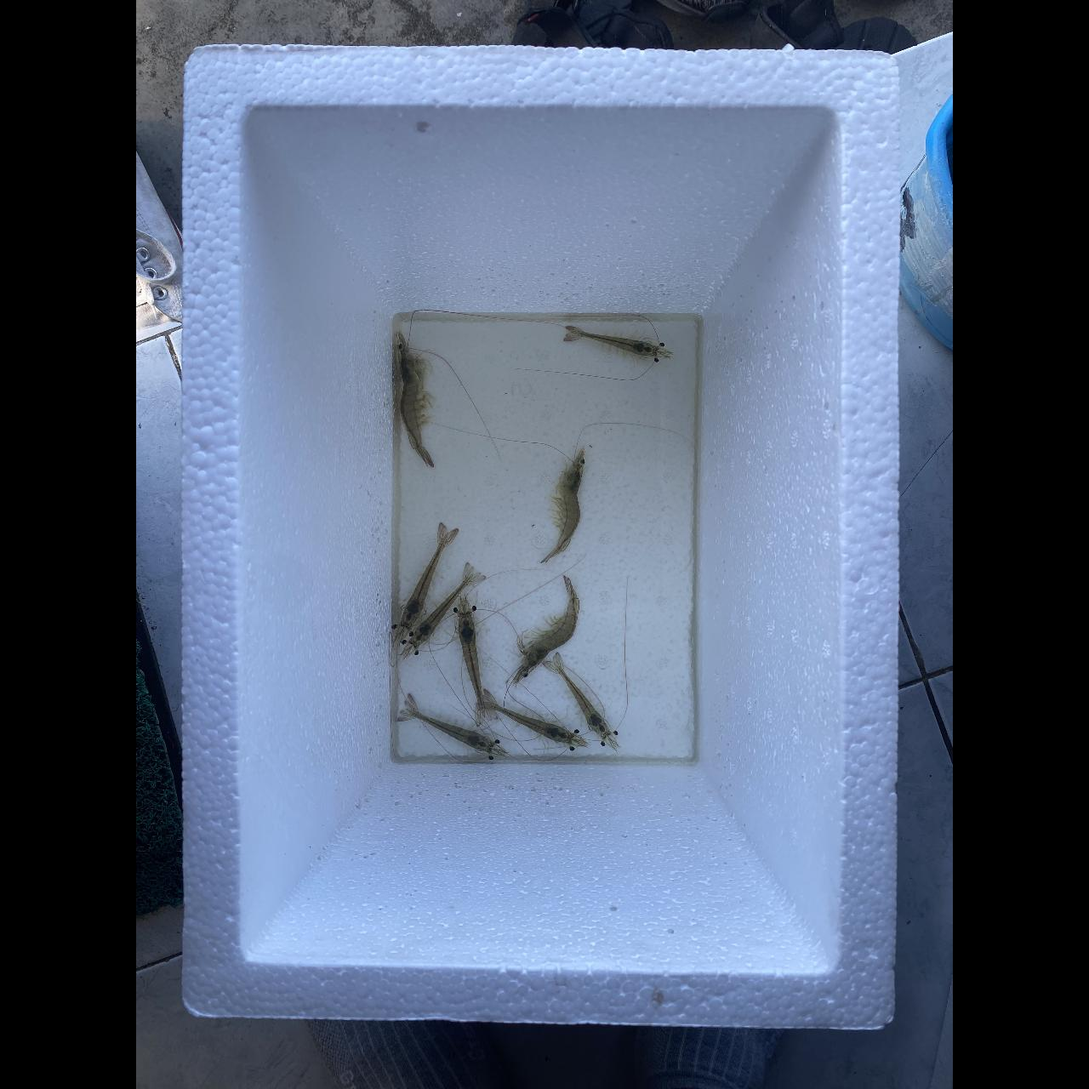side_shrimp: (521, 582, 580, 669), (545, 464, 585, 560), (399, 347, 427, 466)
top_shrimp: (411, 573, 473, 646), (402, 533, 447, 627), (555, 662, 610, 738), (484, 701, 570, 743), (405, 709, 490, 750), (458, 613, 485, 719), (571, 331, 657, 356)
